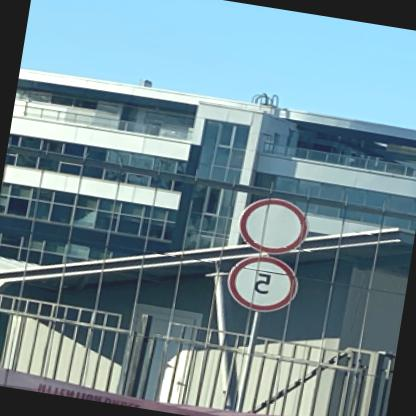speedlimit: (226, 252, 304, 314)
